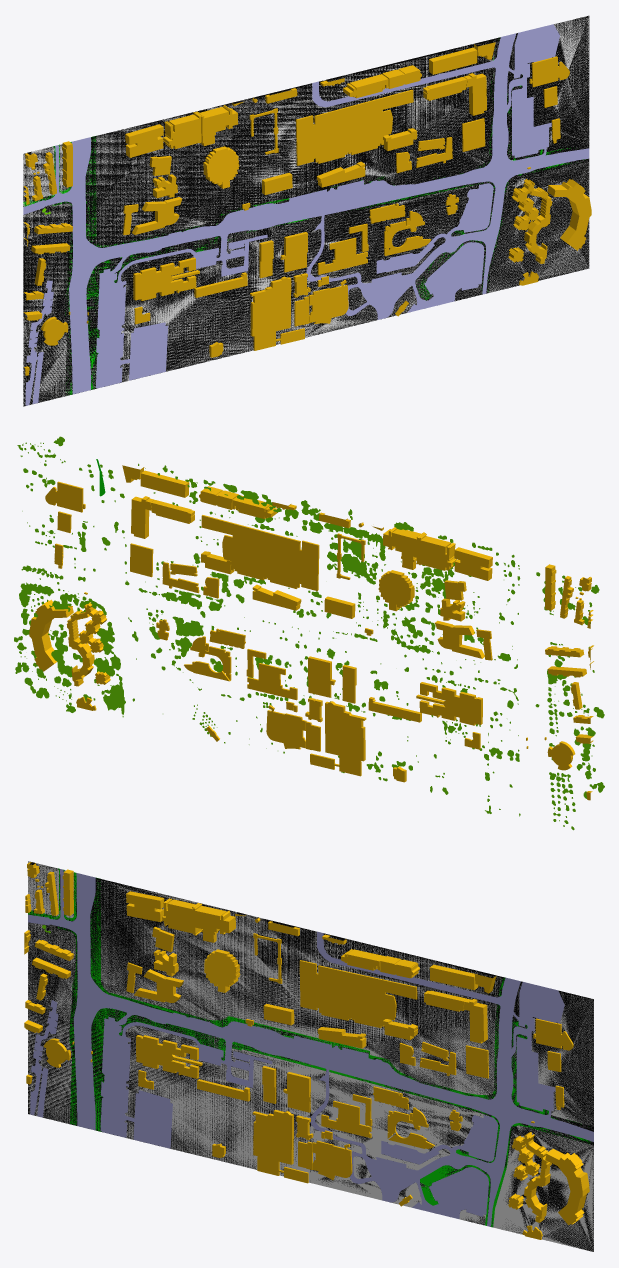
Rendered from original_with_layers.glb.
3 views of the same model, one above another, from view 1: azimuth 30°, elevation 25°; view 2: azimuth 150°, elevation 25°; view 3: azimuth 330°, elevation 25° (orthographic).
Visible parts, largest first — view 1: Layer 04, existing_building - Copy, roads, base, ground, added sidewalk and parking; view 2: existing_building - Copy, treesurface; view 3: Layer 04, ground, existing_building - Copy, roads, base, added sidewalk and parking.
Part boxes in pixels (left/top/right/bottom): Layer 04: left=23, top=15, right=589, bottom=406; existing_building - Copy: left=23, top=42, right=591, bottom=375; roads: left=23, top=24, right=589, bottom=405; base: left=23, top=18, right=589, bottom=404; ground: left=23, top=16, right=589, bottom=405; added sidewalk and parking: left=23, top=48, right=586, bottom=394; existing_building - Copy: left=29, top=465, right=593, bottom=800; treesurface: left=14, top=436, right=604, bottom=830; Layer 04: left=28, top=861, right=593, bottom=1251; ground: left=28, top=861, right=593, bottom=1251; existing_building - Copy: left=24, top=862, right=589, bottom=1239; roads: left=28, top=868, right=593, bottom=1226; base: left=28, top=864, right=593, bottom=1250; added sidewalk and parking: left=28, top=868, right=590, bottom=1227.
Bounding box in the file's own units: 1035 × 458 × 20.85.
